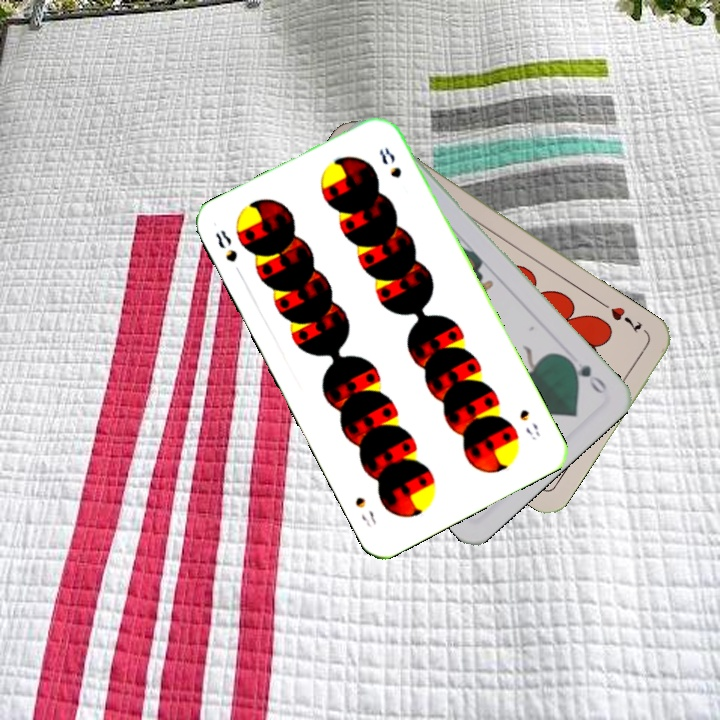GO: (561, 353, 610, 397)
H7: (606, 302, 645, 336)
S8: (211, 225, 240, 265), (515, 405, 543, 443)
